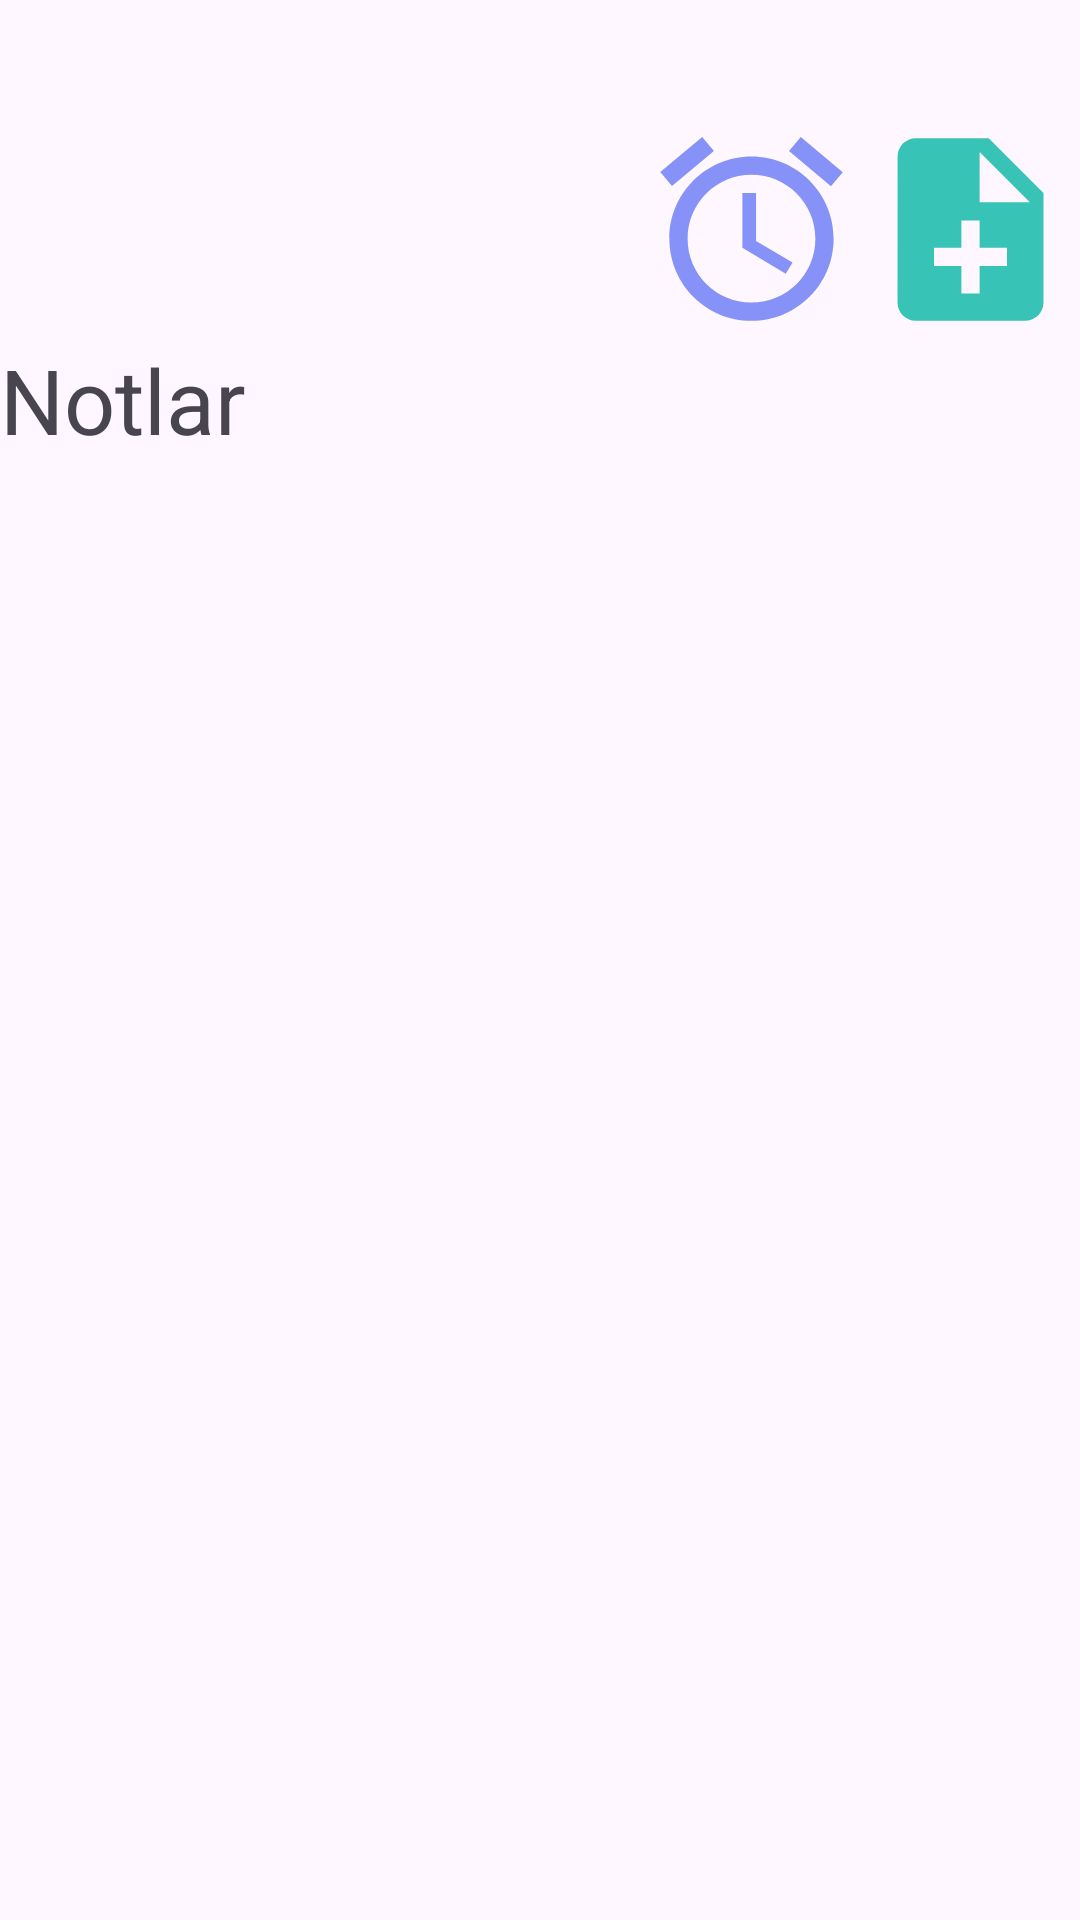

Screen size 1080x1920. Icon name, then its center in pixels as (x=x, y=y):
access alarm: (x=751, y=229)
add: (x=970, y=229)
